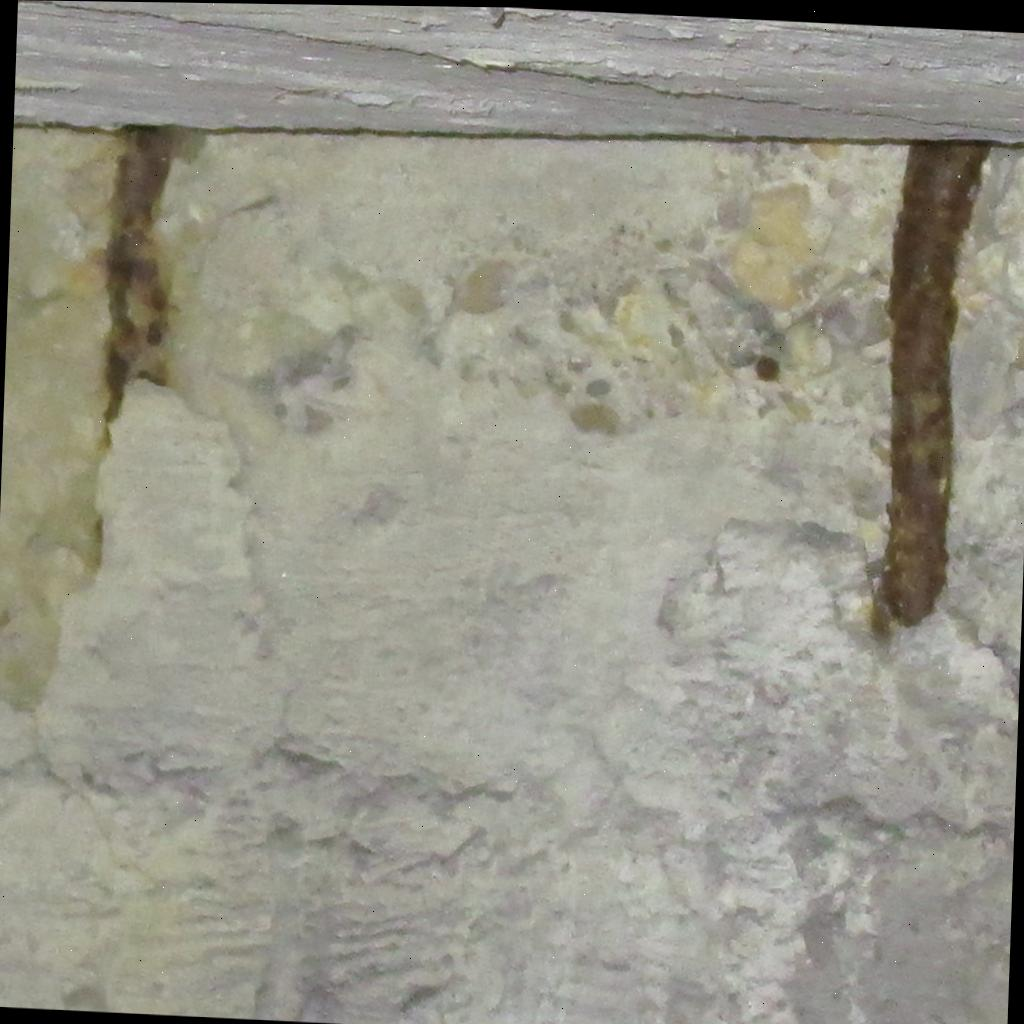exposed_rebar: (875, 141, 989, 631), (103, 126, 185, 421)
